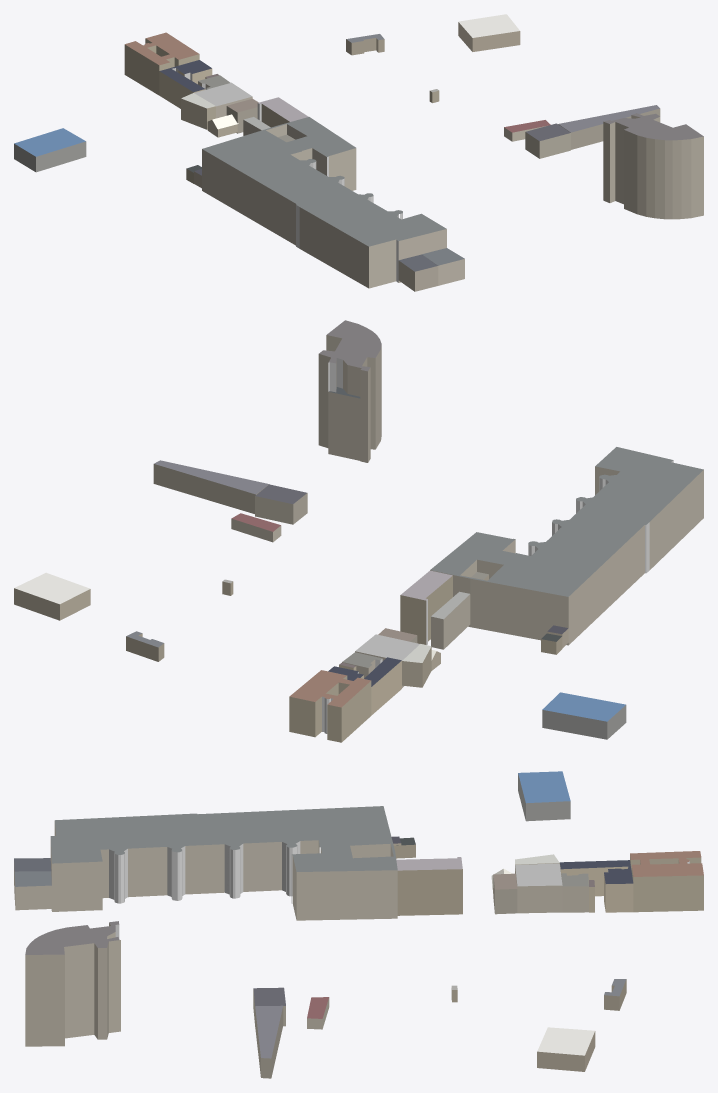
3 renders of one model, top to bottom at view 1: azimuth 30°, elevation 25°; view 2: azimuth 150°, elevation 25°; view 3: azimuth 270°, elevation 25°, orthographic. The views are drawn at different scales.
Visible parts, largest first — view 1: tuile; view 2: tuile; view 3: tuile.
Boxes of the visible parts, bbox=[...] form: tuile: bbox=[14, 14, 703, 291]; tuile: bbox=[14, 320, 703, 742]; tuile: bbox=[14, 771, 703, 1078].
Bounding box in the file's own units: 239 × 36.59 × 239.
